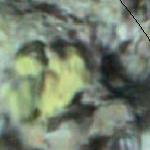alive: (25, 20, 146, 145)
